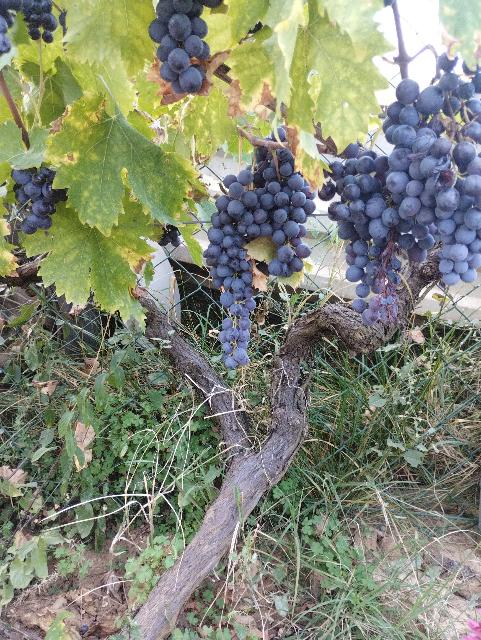grapes: (385, 54, 481, 286), (319, 144, 434, 325), (204, 169, 262, 369), (258, 146, 316, 278)
